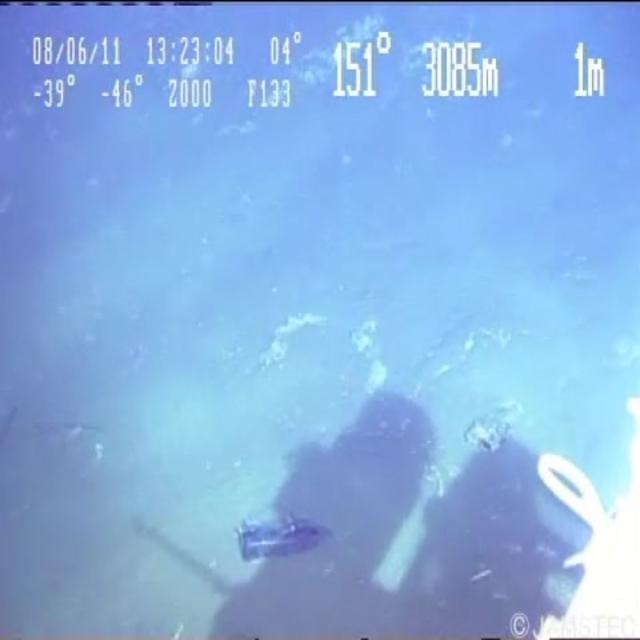Glass: (226, 504, 351, 582)
